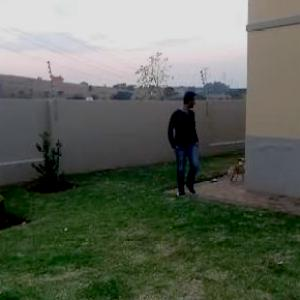follow: (166, 89, 202, 200)
